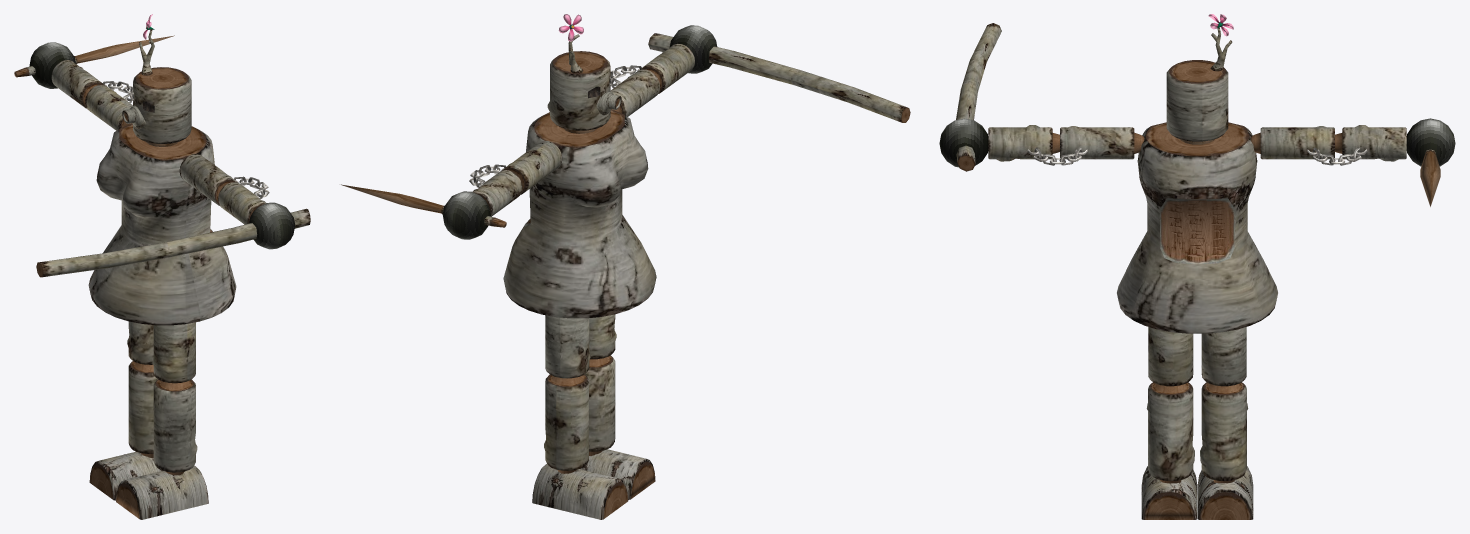
The model's file is mokujin.glb.
The picture shows the model from 3 angles, left to right: view 1: azimuth 30°, elevation 25°; view 2: azimuth 150°, elevation 25°; view 3: azimuth 270°, elevation 25°; orthographic projection. The views are drawn at different scales.
Parts seen in each view (by area): view 1: Object_moku4u_13.jpg, Object_moku4u_3.jpg, Object_moku4u_2.jpg, Object_moku4u_18.jpg, Object_moku4u_1.jpg, Object_moku4u_17.jpg, Object_moku4u_4.jpg, Object_moku4u_15.jpg, Object_moku4u_19.jpg, Object_moku4u_20.jpg, Object_moku4u_6.jpg; view 2: Object_moku4u_13.jpg, Object_moku4u_3.jpg, Object_moku4u_2.jpg, Object_moku4u_18.jpg, Object_moku4u_1.jpg, Object_moku4u_17.jpg, Object_moku4u_4.jpg, Object_moku4u_15.jpg; view 3: Object_moku4u_13.jpg, Object_moku4u_2.jpg, Object_moku4u_3.jpg, Object_moku4u_1.jpg, Object_moku4u_14.jpg, Object_moku4u_17.jpg, Object_moku4u_18.jpg, Object_moku4u_19.jpg, Object_moku4u_20.jpg, Object_moku4u_15.jpg, Object_moku4u_4.jpg.
Part boxes in pixels (box(x1,y1,x2,y2)): Object_moku4u_13.jpg: box(88, 129, 236, 325); Object_moku4u_3.jpg: box(38, 84, 310, 453); Object_moku4u_2.jpg: box(51, 60, 237, 472); Object_moku4u_18.jpg: box(90, 451, 208, 519); Object_moku4u_1.jpg: box(14, 67, 262, 475); Object_moku4u_17.jpg: box(29, 42, 295, 249); Object_moku4u_4.jpg: box(75, 35, 177, 146); Object_moku4u_15.jpg: box(102, 81, 269, 199); Object_moku4u_19.jpg: box(116, 483, 139, 519); Object_moku4u_20.jpg: box(89, 464, 113, 499); Object_moku4u_6.jpg: box(122, 105, 146, 129); Object_moku4u_13.jpg: box(503, 115, 656, 318); Object_moku4u_3.jpg: box(502, 33, 907, 470); Object_moku4u_2.jpg: box(472, 59, 660, 451); Object_moku4u_18.jpg: box(532, 449, 654, 519); Object_moku4u_1.jpg: box(476, 51, 910, 473); Object_moku4u_17.jpg: box(442, 25, 717, 239); Object_moku4u_4.jpg: box(341, 128, 597, 213); Object_moku4u_15.jpg: box(469, 65, 641, 187); Object_moku4u_13.jpg: box(1117, 126, 1277, 333); Object_moku4u_2.jpg: box(1060, 67, 1406, 481); Object_moku4u_3.jpg: box(956, 23, 1334, 481); Object_moku4u_1.jpg: box(957, 60, 1435, 483); Object_moku4u_14.jpg: box(1159, 198, 1235, 264); Object_moku4u_17.jpg: box(939, 118, 1455, 167); Object_moku4u_18.jpg: box(1141, 466, 1253, 519); Object_moku4u_19.jpg: box(1143, 492, 1195, 519); Object_moku4u_20.jpg: box(1199, 492, 1251, 519); Object_moku4u_15.jpg: box(1027, 147, 1367, 165); Object_moku4u_4.jpg: box(1180, 139, 1440, 206).
Size of the model in its own units: 0.0192 by 0.025 by 0.0236.
21 materials, 21 textured.
